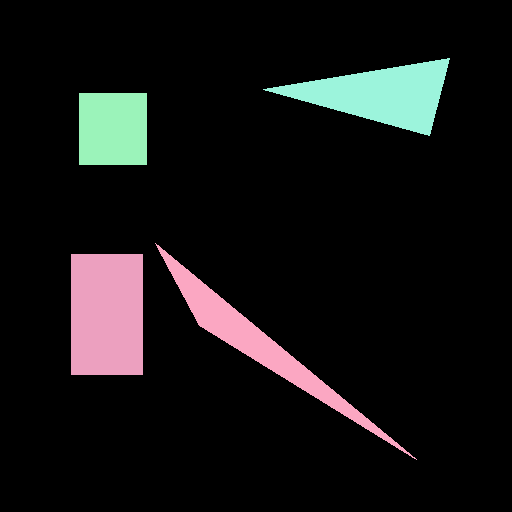rectangle: (71, 254, 142, 374)
square: (79, 93, 146, 164)
triangle: (155, 243, 416, 459), (263, 58, 449, 135)
